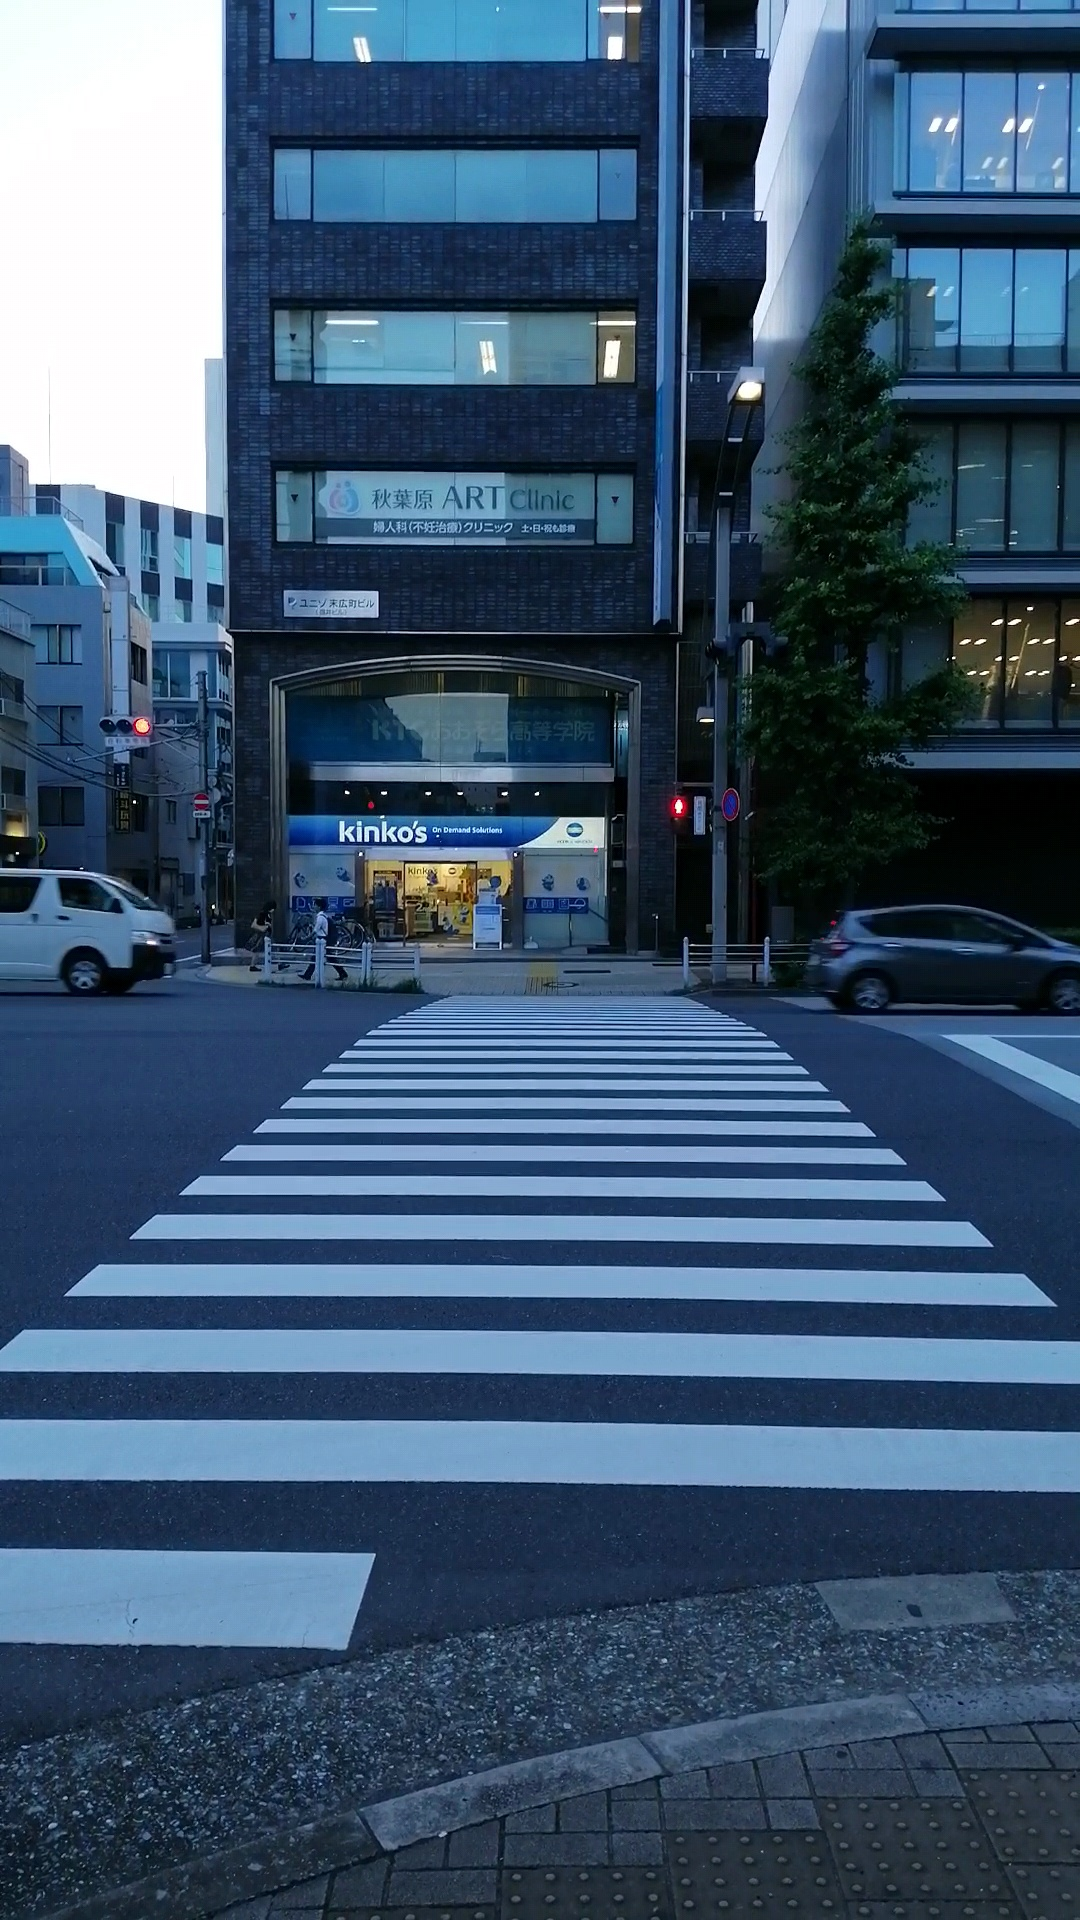red: (667, 794, 691, 840)
